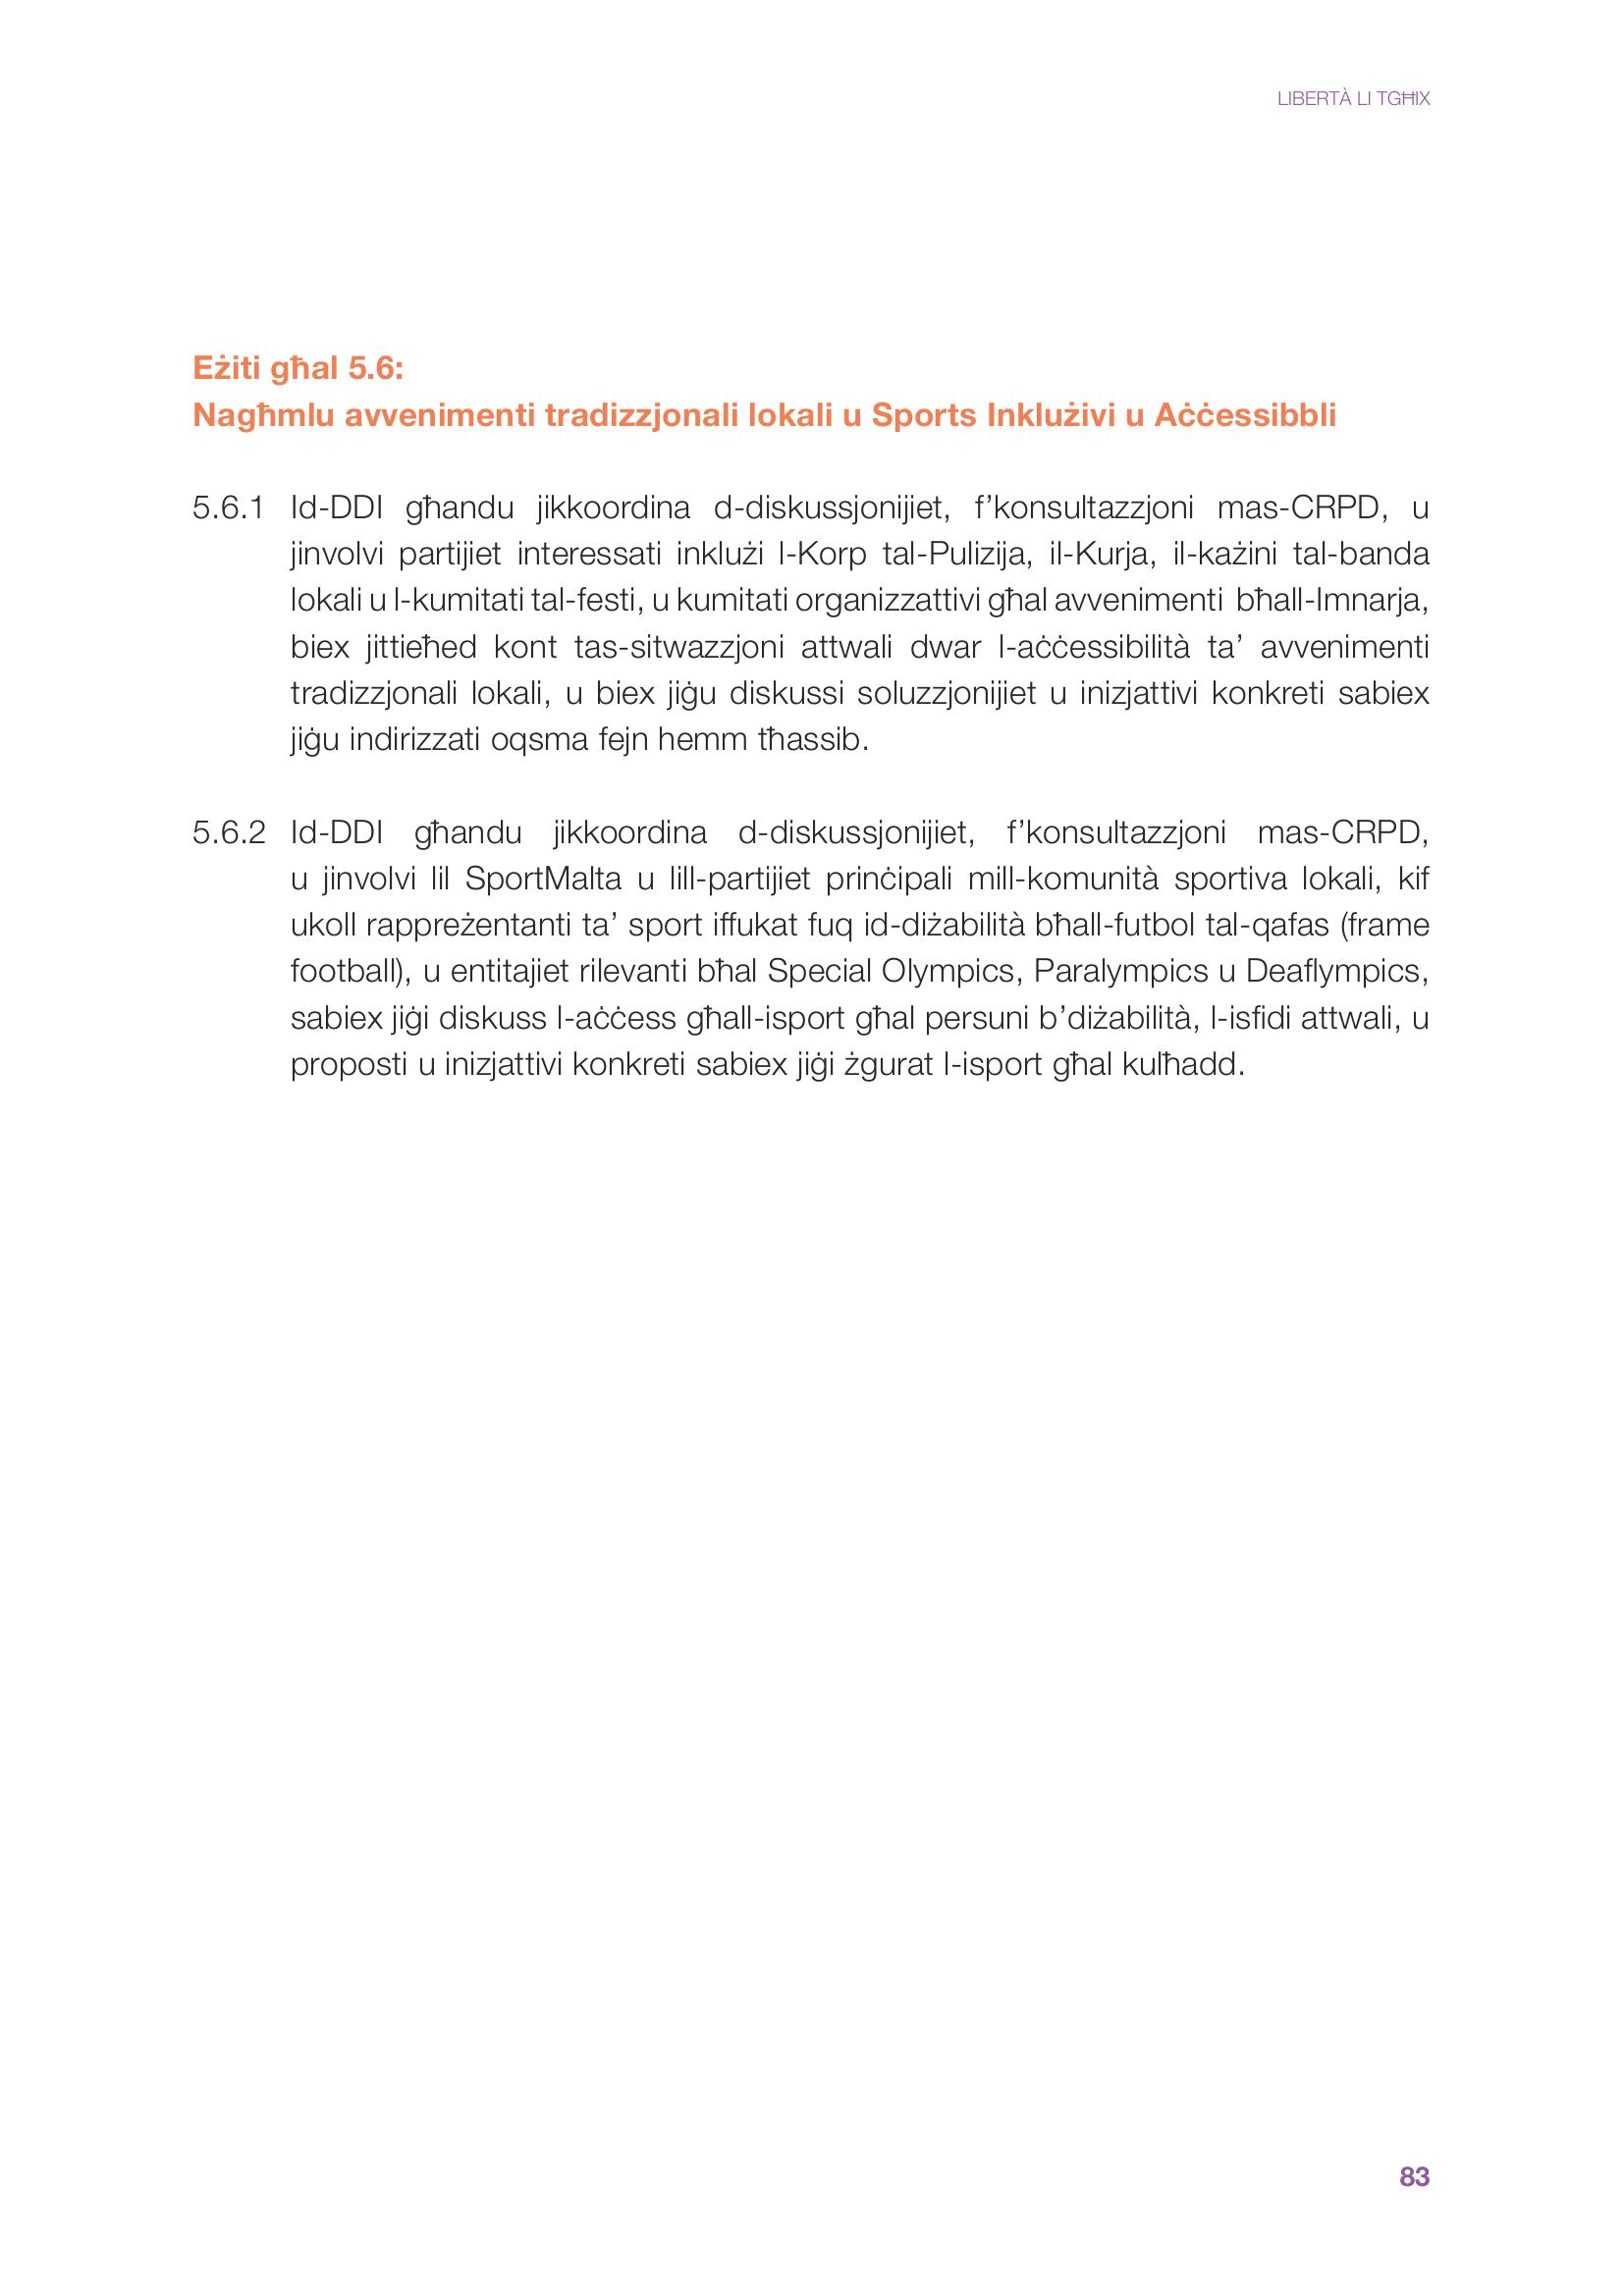text: (163, 323, 1461, 1124)
